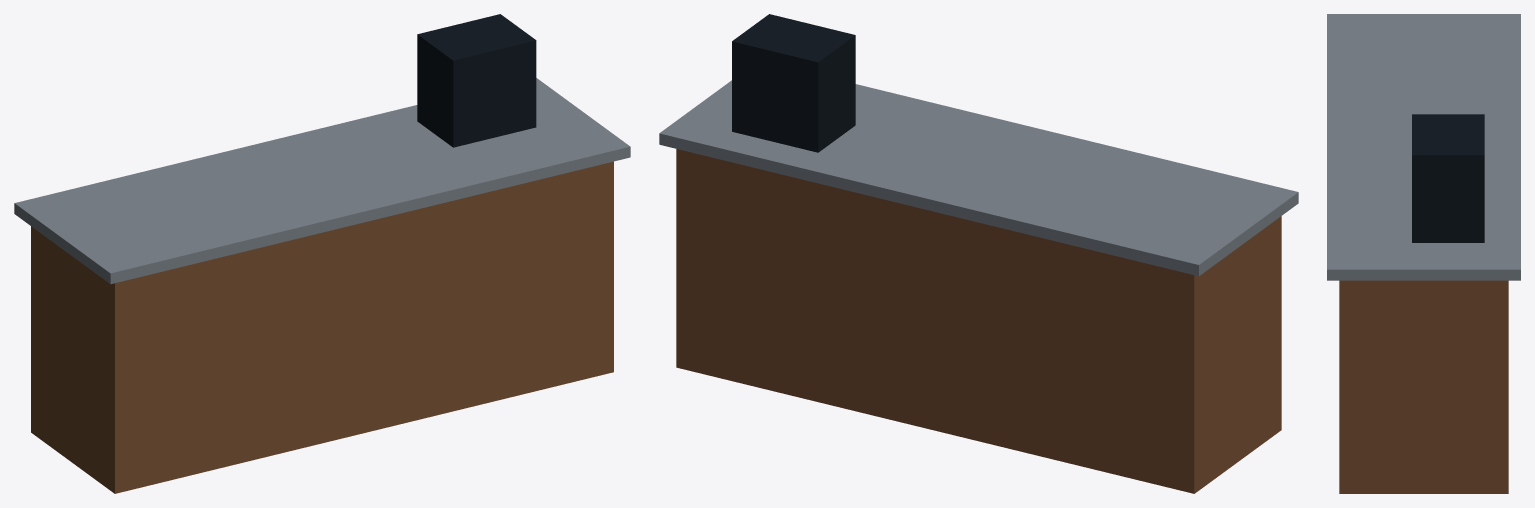
File: counter.glb
3 views of the same model, side by side, from view 1: azimuth 30°, elevation 25°; view 2: azimuth 150°, elevation 25°; view 3: azimuth 270°, elevation 25° (orthographic). The views are drawn at different scales.
Visible parts, largest first — view 1: counter_Body; view 2: counter_Body; view 3: counter_Body.
Boxes of the visible parts, <box> form: counter_Body: <box>14,14,630,493</box>; counter_Body: <box>659,14,1298,493</box>; counter_Body: <box>1327,14,1520,493</box>.
Bounding box in the file's own units: 2.5 × 1.45 × 0.8.
